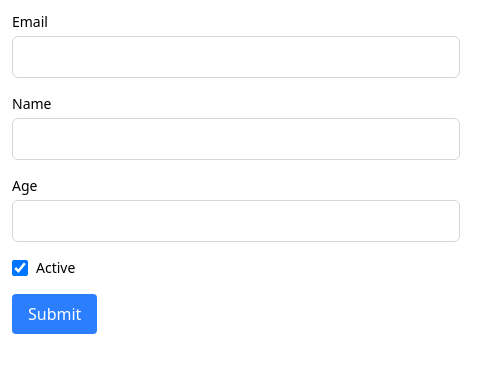
Scenario: Integration Tests › Form Validation Flow: Form Input → Zod Validation → Error Display › should display validation errors for invalid name
Note: Enter name that's too short
Type "test@example.com" into the field labelled "Email" at (236, 57), box [12, 36, 460, 78]
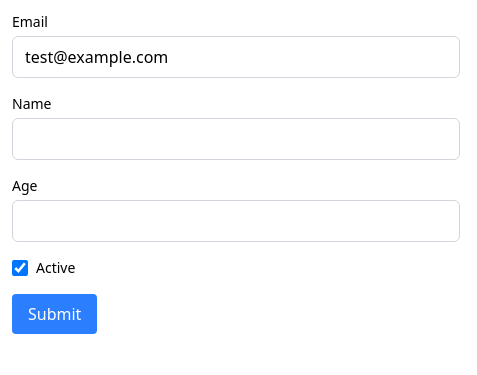
Type "A" into the field labelled "Name" at (236, 139), box [12, 118, 460, 160]
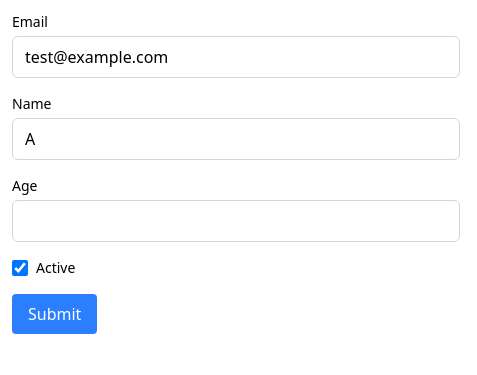
Type "25" into the number field labelled "Age" at (236, 221), box [12, 200, 460, 242]
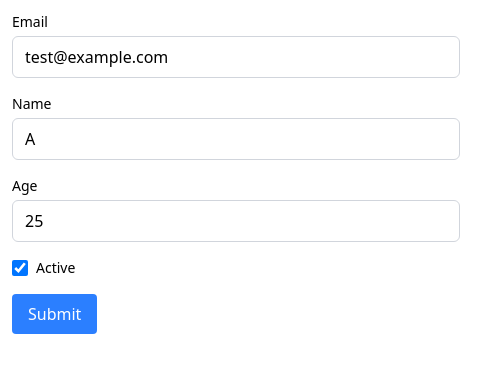
Click the button "Submit" at (55, 314), box [12, 294, 97, 334]
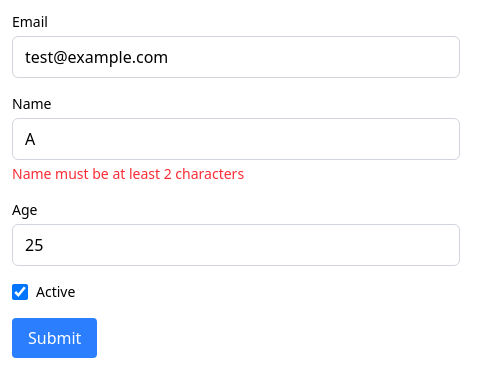
Result: the text "Name must be at least 2 characters" is shown at [12, 164, 244, 183]
